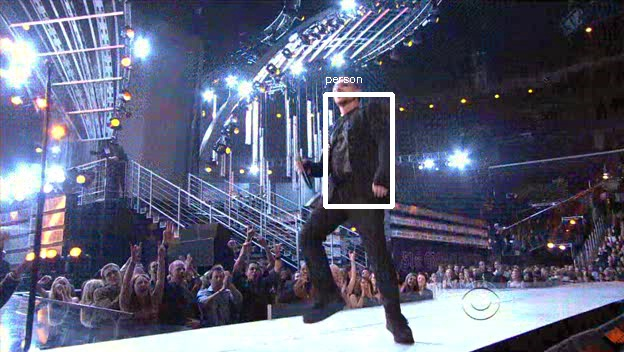person: (310, 77, 380, 223), (307, 77, 377, 223), (313, 77, 383, 223), (310, 74, 380, 220), (310, 80, 380, 226)
target_negative: (124, 155, 280, 255), (110, 211, 191, 304), (497, 52, 577, 108), (239, 238, 459, 255), (69, 295, 210, 316), (600, 150, 604, 292)
